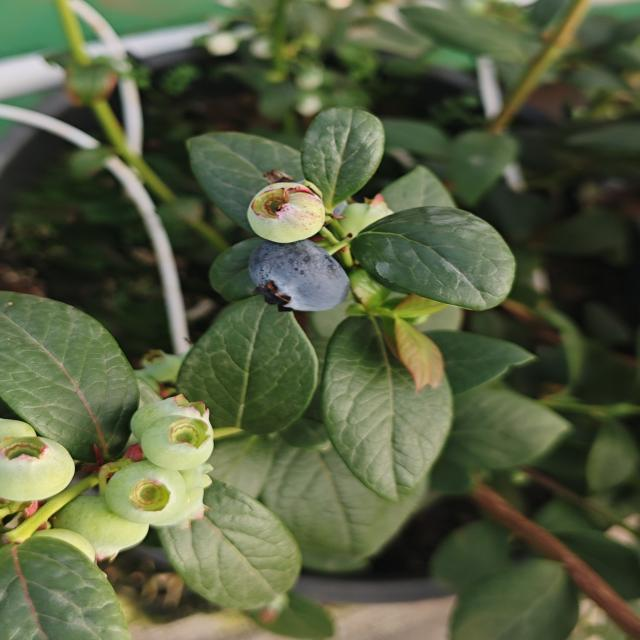ripe: (239, 234, 362, 315)
